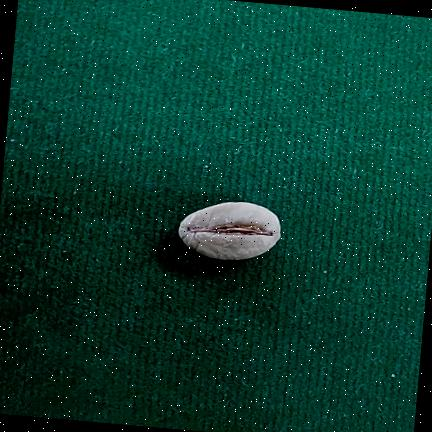immature: (179, 202, 281, 260)
